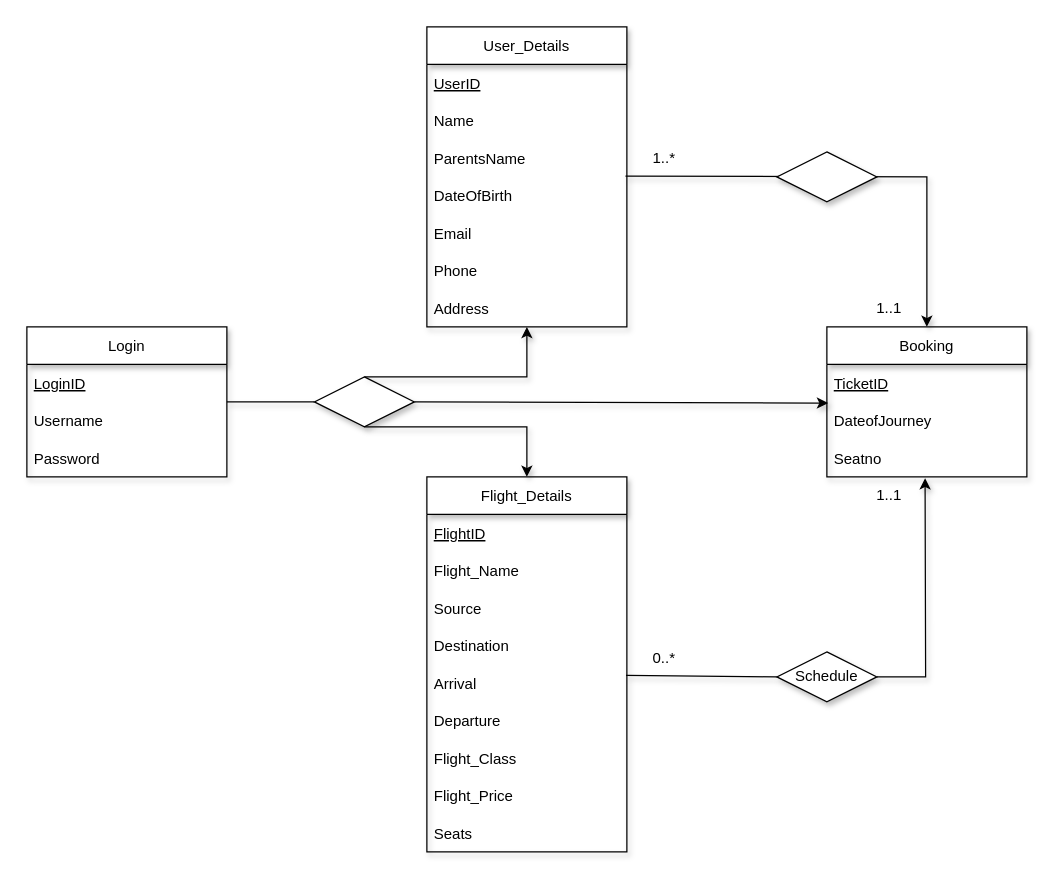
This 1056x883 diagram has some shape labels left out. Each missing label, with the centre of its shape:
"Executes" belongs at (x=365, y=403).
"Ticket" belongs at (x=827, y=178).
